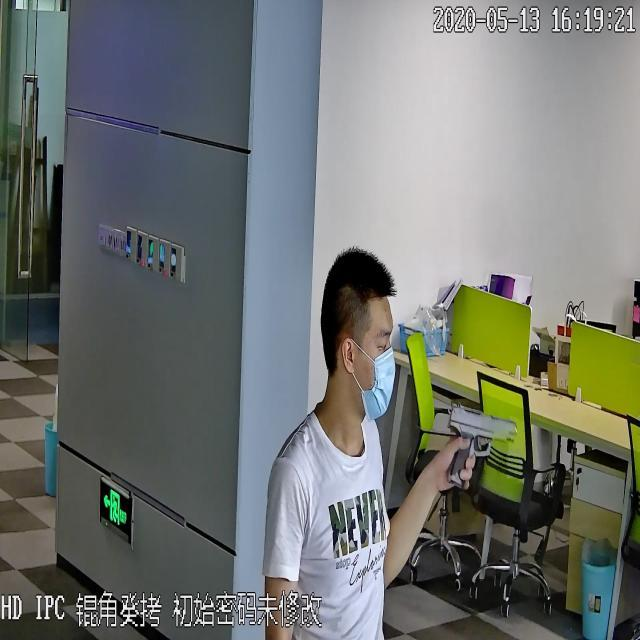gun: (445, 393, 517, 493)
